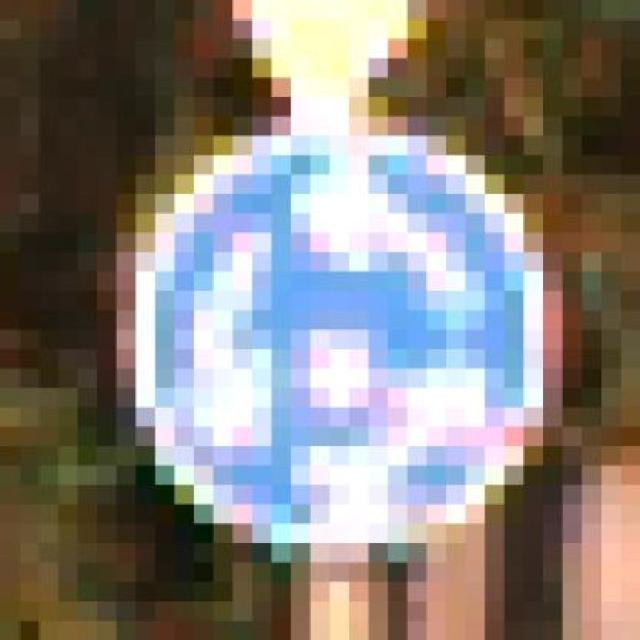Round-About: (77, 78, 601, 582)
